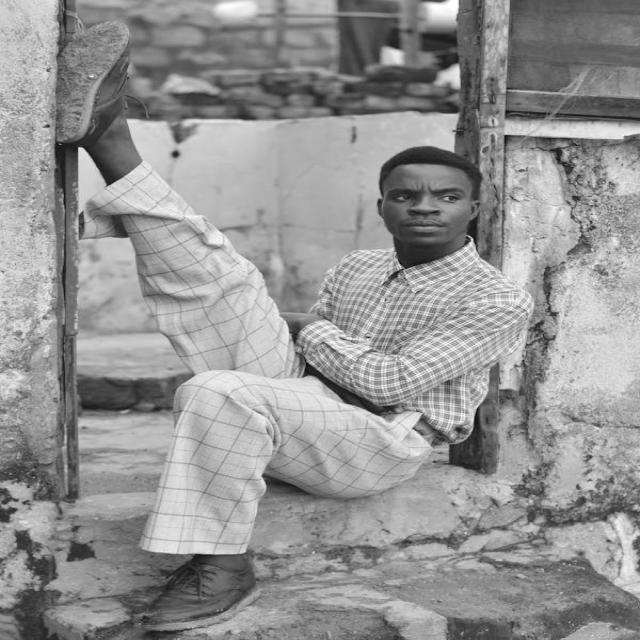Real human 2: (56, 16, 553, 630)
